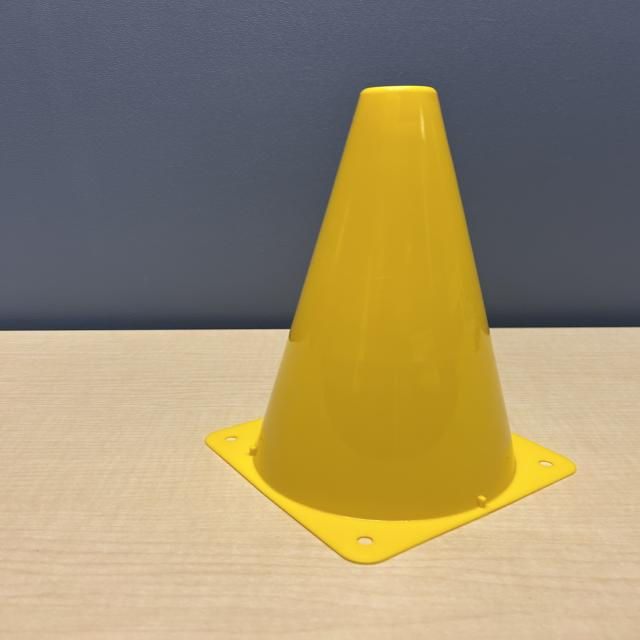yellow cone: (197, 81, 586, 568)
